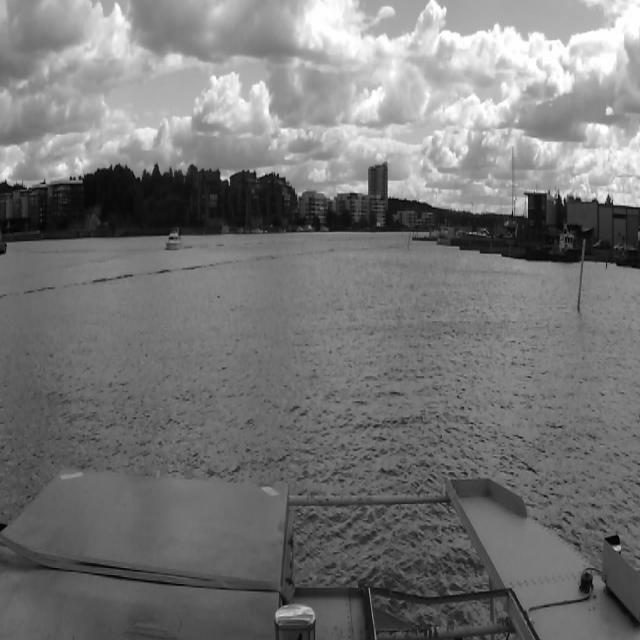buoy: (577, 239, 585, 309)
ship: (166, 228, 182, 250)
